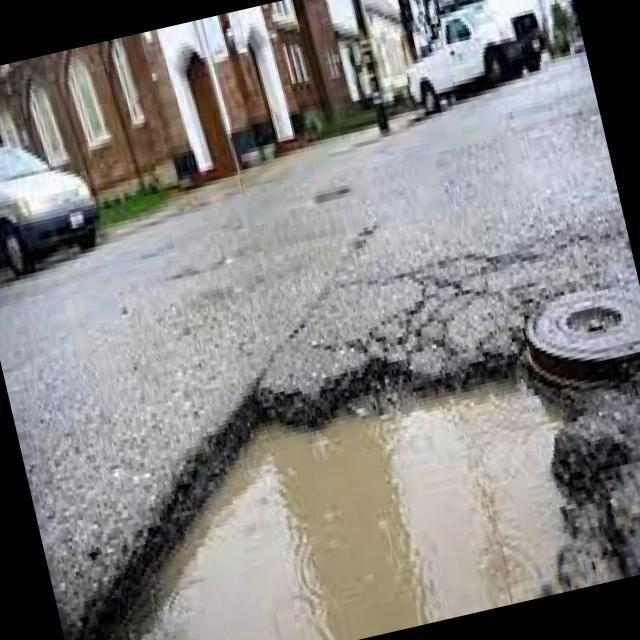pothole: (82, 369, 571, 640)
